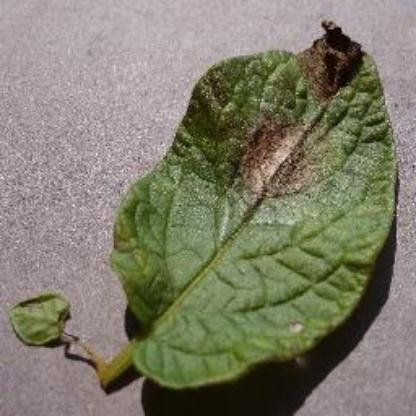Late-Blight: (108, 18, 402, 394)
